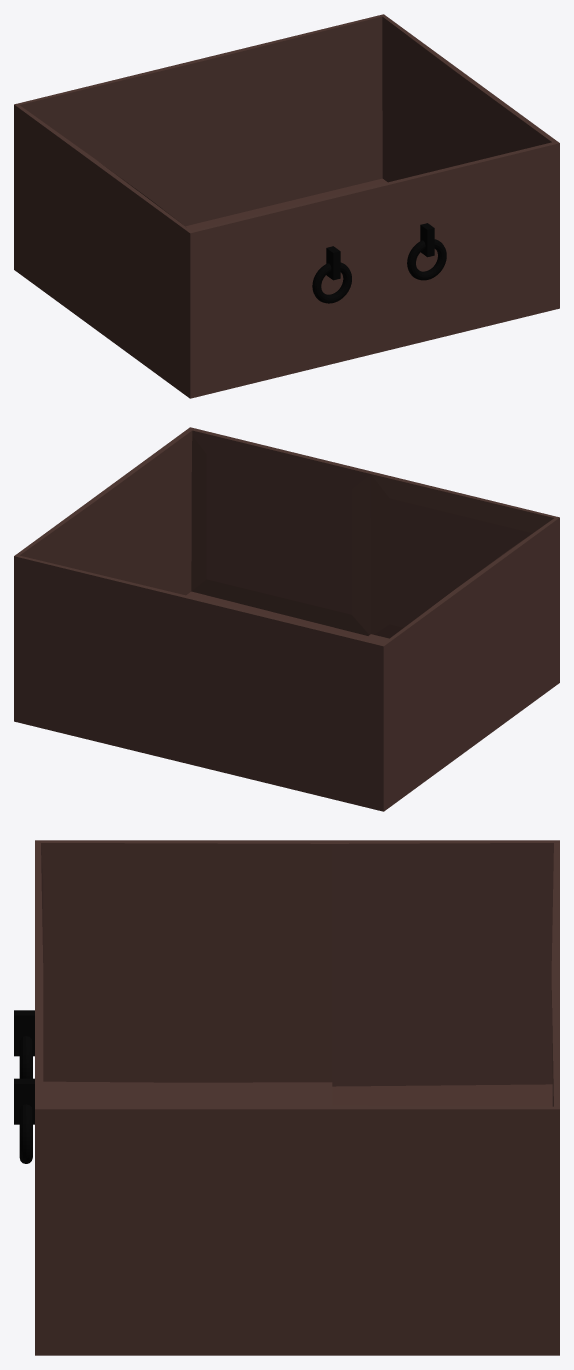
The model's file is PuxarGaveta1.fbx.
The picture shows the model from 3 angles, top to bottom: view 1: azimuth 30°, elevation 25°; view 2: azimuth 150°, elevation 25°; view 3: azimuth 270°, elevation 25°; orthographic projection. The views are drawn at different scales.
Parts seen in each view (by area): view 1: gaveteiro puxar; view 2: gaveteiro puxar; view 3: gaveteiro puxar.
Part boxes in pixels (box(x1,y1,x2,y2)): gaveteiro puxar: box(14, 14, 559, 398); gaveteiro puxar: box(14, 427, 559, 811); gaveteiro puxar: box(14, 840, 559, 1355).
Bounding box in the file's own units: 75.37 × 32.21 × 64.68.
